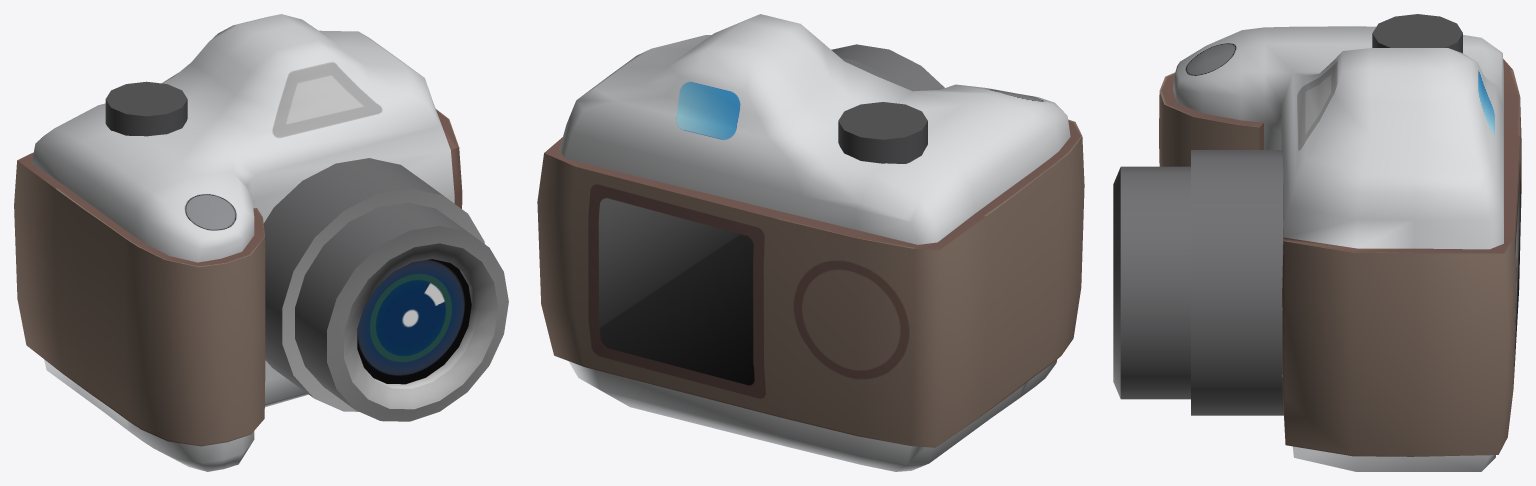
The model's file is camera.fbx.
The picture shows the model from 3 angles, left to right: view 1: azimuth 30°, elevation 25°; view 2: azimuth 150°, elevation 25°; view 3: azimuth 270°, elevation 25°; orthographic projection. The views are drawn at different scales.
Visible parts, largest first — view 1: camera; view 2: camera; view 3: camera.
Part boxes in pixels (bbox=[...]): camera: bbox=[14, 14, 508, 471]; camera: bbox=[537, 14, 1084, 471]; camera: bbox=[1113, 14, 1521, 471].
Bounding box in the file's own units: 198 × 165 × 170.
Materials: 1 (1 with a texture image).
